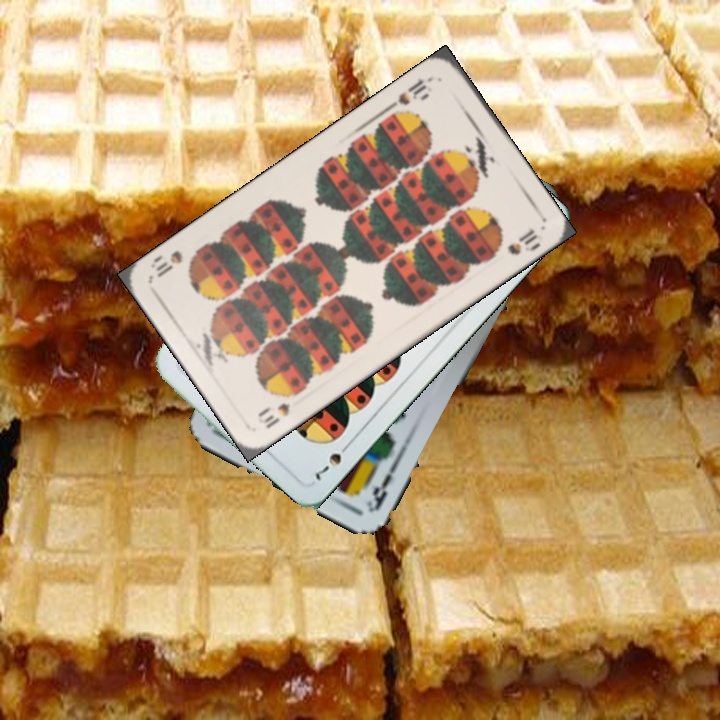EK: (362, 458, 400, 514)
S10: (253, 388, 302, 432), (384, 74, 432, 112)
S7: (311, 437, 354, 483)
